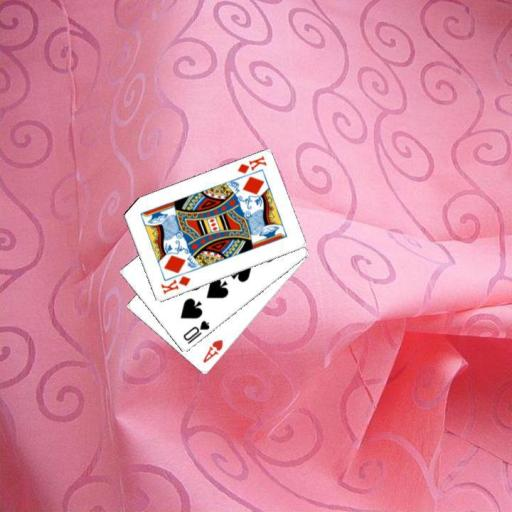10S: (180, 317, 211, 346)
AH: (199, 336, 225, 365)
KD: (157, 273, 192, 296), (234, 153, 268, 176)
